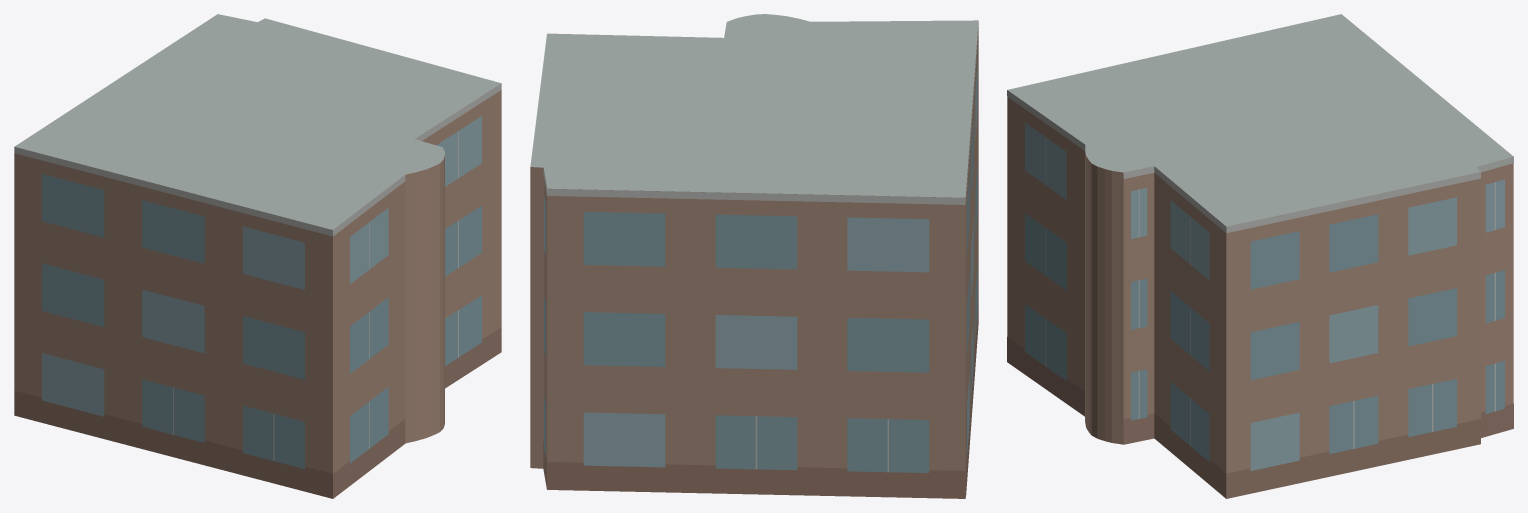
File: survey-upis-32898300.glb
3 views of the same model, side by side, from view 1: azimuth 30°, elevation 25°; view 2: azimuth 150°, elevation 25°; view 3: azimuth 270°, elevation 25° (orthographic). The views are drawn at different scales.
Parts seen in each view (by area): view 1: survey-upis-32898300.tmp; view 2: survey-upis-32898300.tmp; view 3: survey-upis-32898300.tmp.
Part boxes in pixels (<box>): survey-upis-32898300.tmp: <box>14,14,501,498</box>; survey-upis-32898300.tmp: <box>530,14,978,498</box>; survey-upis-32898300.tmp: <box>1007,14,1513,498</box>.
Size of the model in its own units: 17.11 by 10.2 by 17.22.
